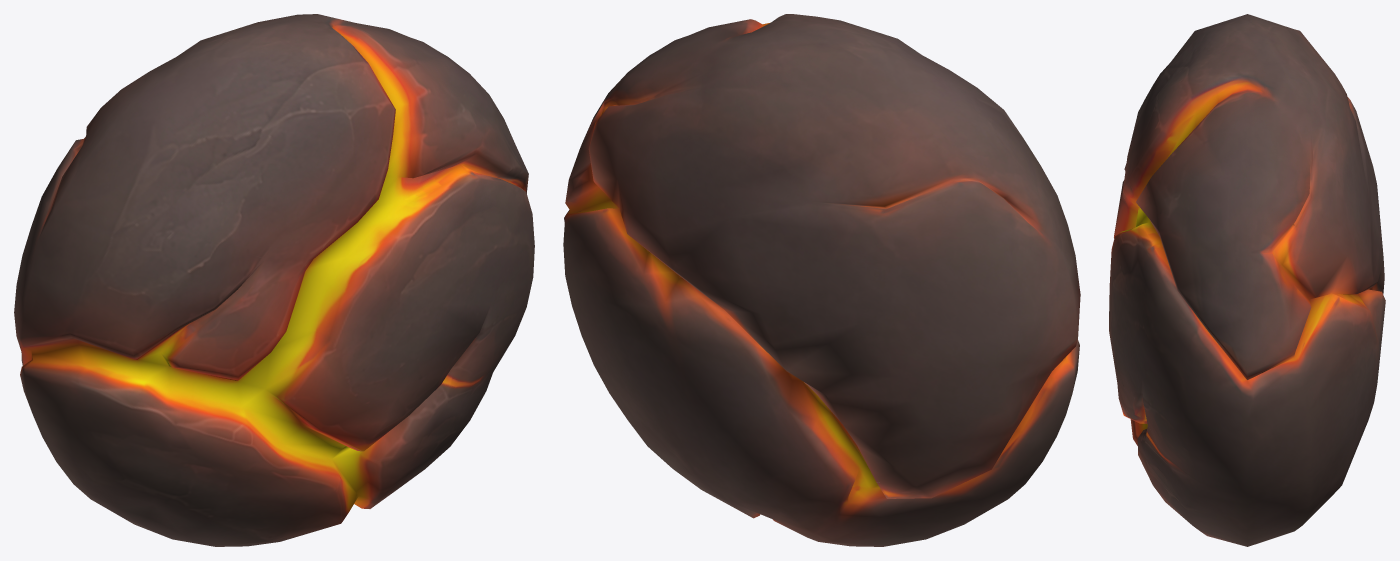
File: SM_PetPart_JingweiPebble_tripo_v1.glb
The picture shows the model from 3 angles, left to right: view 1: azimuth 30°, elevation 25°; view 2: azimuth 150°, elevation 25°; view 3: azimuth 270°, elevation 25°; orthographic projection. The views are drawn at different scales.
Visible parts, largest first — view 1: tripo_node_2de66446-8d73-48c7-aa8f-f8401320e9ca; view 2: tripo_node_2de66446-8d73-48c7-aa8f-f8401320e9ca; view 3: tripo_node_2de66446-8d73-48c7-aa8f-f8401320e9ca.
Boxes of the visible parts, <box> form: tripo_node_2de66446-8d73-48c7-aa8f-f8401320e9ca: <box>14,14,534,546</box>; tripo_node_2de66446-8d73-48c7-aa8f-f8401320e9ca: <box>563,14,1080,546</box>; tripo_node_2de66446-8d73-48c7-aa8f-f8401320e9ca: <box>1109,14,1385,546</box>.
Size of the model in its own units: 0.9995 by 0.939 by 0.4937.
Materials: 1 (1 with a texture image).
